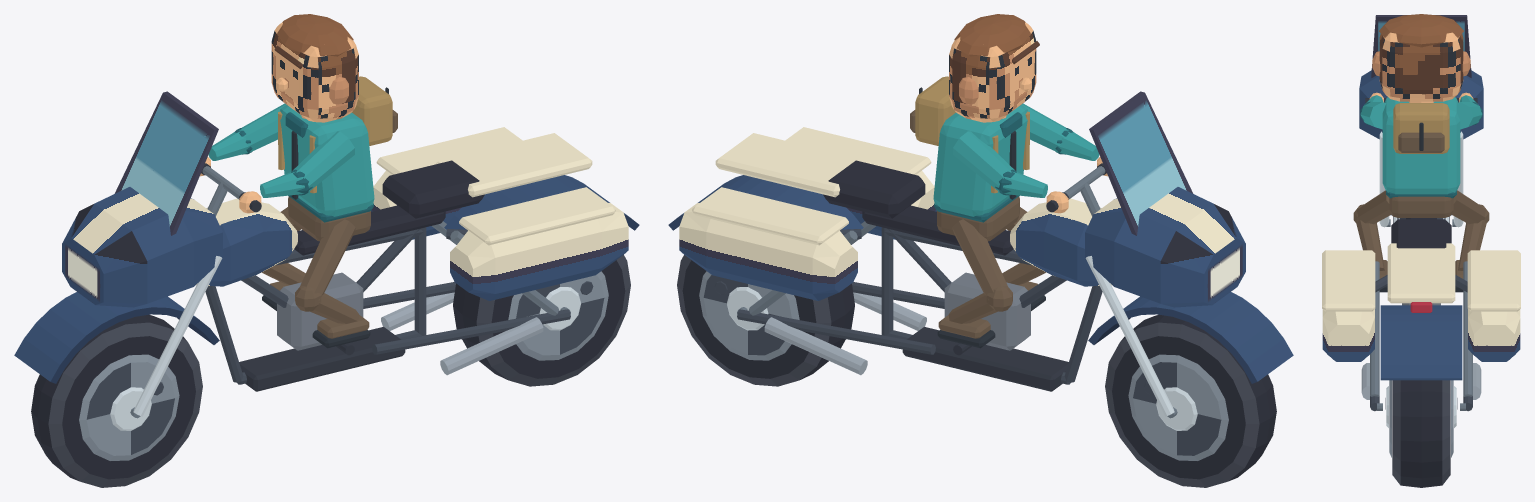
The picture shows the model from 3 angles, left to right: view 1: azimuth 30°, elevation 25°; view 2: azimuth 150°, elevation 25°; view 3: azimuth 270°, elevation 25°; orthographic projection. The views are drawn at different scales.
Visible parts, largest first — view 1: Body_static, RiderExplorer:Explorer_static_seated, Wheel_F_tire_hub, Wheel_R_tire_hub; view 2: Body_static, RiderExplorer:Explorer_static_seated, Wheel_F_tire_hub, Wheel_R_tire_hub; view 3: Body_static, RiderExplorer:Explorer_static_seated, Wheel_R_tire_hub.
Part boxes in pixels (x1,y1,x2,y2): Body_static: (14, 91, 639, 418); RiderExplorer:Explorer_static_seated: (200, 14, 397, 348); Wheel_F_tire_hub: (31, 314, 202, 487); Wheel_R_tire_hub: (453, 255, 630, 386); Body_static: (668, 91, 1293, 418); RiderExplorer:Explorer_static_seated: (910, 14, 1107, 348); Wheel_F_tire_hub: (1105, 314, 1276, 487); Wheel_R_tire_hub: (677, 255, 854, 386); Body_static: (1322, 15, 1520, 411); RiderExplorer:Explorer_static_seated: (1353, 14, 1489, 291); Wheel_R_tire_hub: (1385, 380, 1457, 487).
Bounding box in the file's own units: 54.03 × 35.91 × 17.83.
2 materials, 2 textured.
